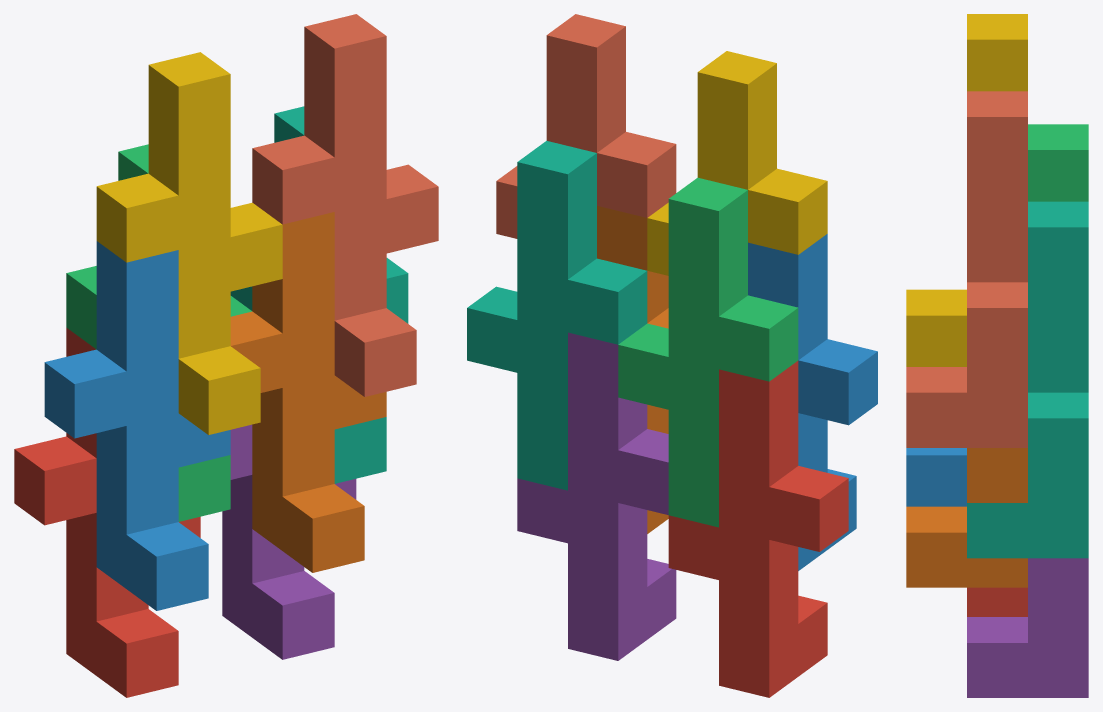
File: tiling.obj
3 views of the same model, side by side, from view 1: azimuth 30°, elevation 25°; view 2: azimuth 150°, elevation 25°; view 3: azimuth 270°, elevation 25° (orthographic). The views are drawn at different scales.
Parts seen in each view (by area): view 1: copy_1_domain_2, copy_1_domain_4, copy_1_domain_8, copy_1_domain_6, copy_1_domain_1, copy_1_domain_5, copy_1_domain_3, copy_1_domain_7; view 2: copy_1_domain_1, copy_1_domain_3, copy_1_domain_7, copy_1_domain_5, copy_1_domain_4, copy_1_domain_8, copy_1_domain_2, copy_1_domain_6; view 3: copy_1_domain_8, copy_1_domain_7, copy_1_domain_5, copy_1_domain_6, copy_1_domain_4, copy_1_domain_3, copy_1_domain_2, copy_1_domain_1.
Part boxes in pixels (x1,y1,x2,y2): copy_1_domain_2: (44, 241, 230, 610); copy_1_domain_4: (96, 52, 282, 434); copy_1_domain_8: (252, 14, 438, 396); copy_1_domain_6: (230, 212, 386, 572); copy_1_domain_1: (14, 327, 200, 697); copy_1_domain_5: (222, 424, 356, 659); copy_1_domain_3: (66, 144, 251, 521); copy_1_domain_7: (230, 106, 408, 483); copy_1_domain_1: (668, 361, 848, 697); copy_1_domain_3: (618, 177, 798, 527); copy_1_domain_7: (467, 140, 647, 490); copy_1_domain_5: (517, 332, 676, 660); copy_1_domain_4: (647, 51, 827, 275); copy_1_domain_8: (496, 14, 676, 238); copy_1_domain_2: (748, 234, 877, 570); copy_1_domain_6: (597, 206, 668, 533); copy_1_domain_8: (906, 91, 1027, 447); copy_1_domain_7: (967, 201, 1088, 558); copy_1_domain_5: (967, 558, 1088, 697); copy_1_domain_6: (906, 448, 1027, 587); copy_1_domain_4: (906, 14, 1027, 366); copy_1_domain_3: (1028, 124, 1088, 201); copy_1_domain_2: (906, 448, 966, 506); copy_1_domain_1: (967, 587, 1027, 616).
Bounding box in the file's own units: 7 × 11 × 3.
